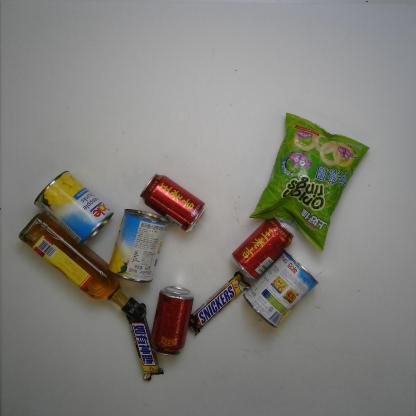Canned Food: (32, 171, 116, 251), (241, 250, 317, 330), (106, 205, 170, 285)
Chocolate: (188, 269, 251, 342), (122, 308, 163, 384)
Drink: (228, 218, 300, 284), (139, 172, 209, 235), (146, 286, 196, 357)
Puffed Food: (248, 107, 373, 256)
Seasoner: (17, 214, 146, 325)
